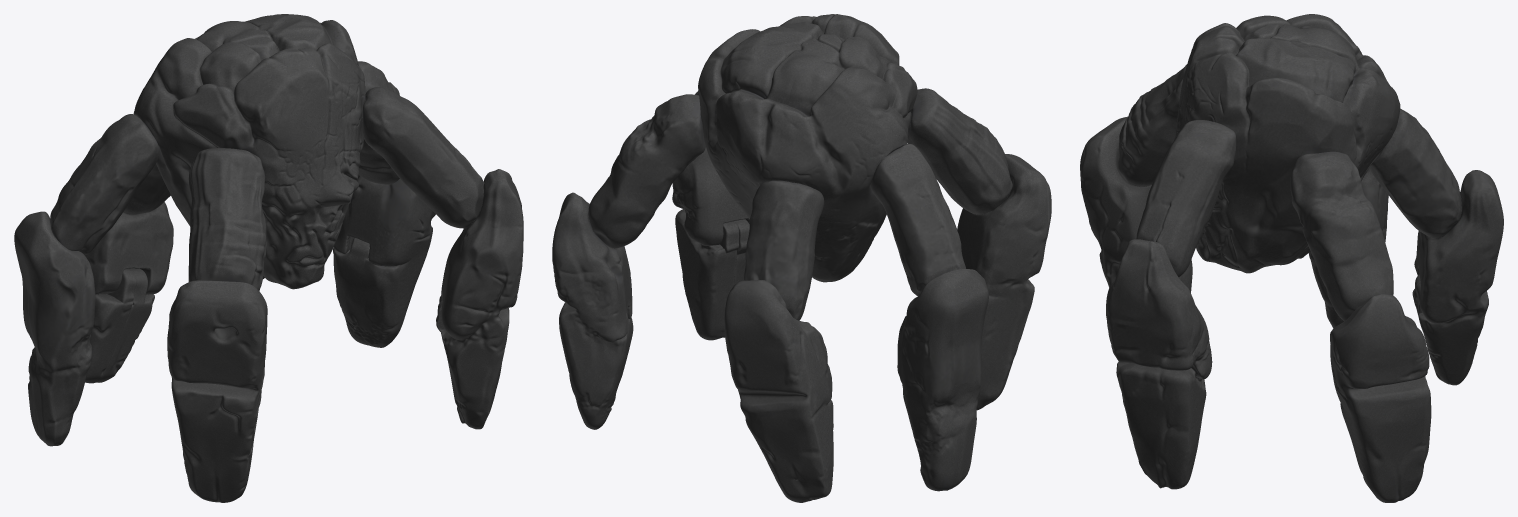
The model's file is rocky.glb.
3 views of the same model, side by side, from view 1: azimuth 30°, elevation 25°; view 2: azimuth 150°, elevation 25°; view 3: azimuth 270°, elevation 25° (orthographic). The views are drawn at different scales.
Parts seen in each view (by area): view 1: rocky; view 2: rocky; view 3: rocky.
Boxes of the visible parts, left/top/right/bottom form: rocky: left=14, top=14, right=523, bottom=502; rocky: left=552, top=14, right=1051, bottom=502; rocky: left=1080, top=14, right=1503, bottom=502.
Bounding box in the file's own units: 1.9 × 1.73 × 1.69.
Materials: 1 (1 with a texture image).
